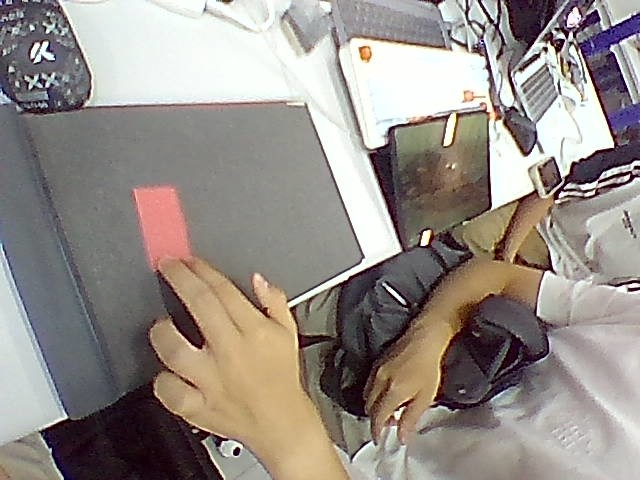card: (133, 185, 190, 270)
